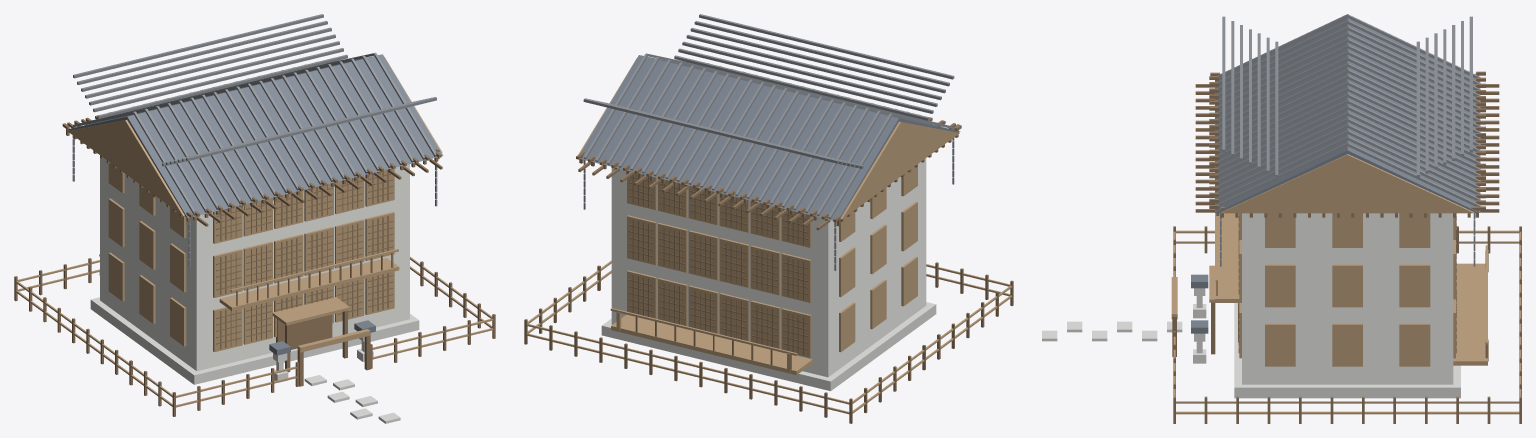
The model's file is office_c.glb.
3 views of the same model, side by side, from view 1: azimuth 30°, elevation 25°; view 2: azimuth 150°, elevation 25°; view 3: azimuth 270°, elevation 25° (orthographic). The views are drawn at different scales.
Visible parts, largest first — view 1: C_roof, C_core, C_plinth, C_gableW, C_bal_slab, C_entry, C_frame_S_1_0, C_mage_11_1, C_mage_13_1, C_mage_8_1, C_mage_9_1, C_mage_13_-1 (+51 smaller); view 2: C_roof, C_core, C_plinth, C_gableW, C_engawa, C_mage_13_1, C_mage_12_-1, C_mage_10_-1, C_mage_13_-1, C_mage_7_-1, C_mage_9_-1, C_mage_11_-1 (+52 smaller); view 3: C_core, C_roof, C_gableE, C_plinth, C_engawa, C_bal_slab, C_side_0_2E, C_side_1_2E, C_side_0_0E, C_side_0_1E, C_side_1_0E, C_side_1_1E (+60 smaller).
Part boxes in pixels (x1=…): C_roof: x1=68, y1=54, x2=443, y2=217; C_core: x1=100, y1=158, x2=409, y2=370; C_plinth: x1=90, y1=297, x2=419, y2=384; C_gableW: x1=67, y1=120, x2=184, y2=215; C_bal_slab: x1=219, y1=258, x2=399, y2=310; C_entry: x1=276, y1=314, x2=332, y2=349; C_frame_S_1_0: x1=213, y1=249, x2=242, y2=297; C_mage_11_1: x1=81, y1=27, x2=331, y2=91; C_mage_13_1: x1=73, y1=14, x2=323, y2=78; C_mage_8_1: x1=93, y1=48, x2=343, y2=112; C_mage_9_1: x1=89, y1=41, x2=339, y2=105; C_mage_13_-1: x1=186, y1=97, x2=436, y2=161; C_roof: x1=580, y1=55, x2=960, y2=221; C_core: x1=611, y1=158, x2=926, y2=377; C_plinth: x1=601, y1=302, x2=936, y2=391; C_gableW: x1=840, y1=121, x2=959, y2=219; C_engawa: x1=611, y1=314, x2=812, y2=375; C_mage_13_1: x1=583, y1=98, x2=838, y2=163; C_mage_12_-1: x1=694, y1=21, x2=949, y2=86; C_mage_10_-1: x1=686, y1=34, x2=941, y2=100; C_mage_13_-1: x1=699, y1=14, x2=954, y2=79; C_mage_7_-1: x1=674, y1=55, x2=929, y2=120; C_mage_9_-1: x1=682, y1=41, x2=937, y2=106; C_mage_11_-1: x1=690, y1=28, x2=945, y2=93; C_core: x1=1242, y1=213, x2=1453, y2=384; C_roof: x1=1215, y1=14, x2=1480, y2=212; C_gableE: x1=1220, y1=154, x2=1474, y2=213; C_plinth: x1=1234, y1=303, x2=1460, y2=398; C_engawa: x1=1453, y1=263, x2=1487, y2=365; C_bal_slab: x1=1215, y1=213, x2=1241, y2=302; C_side_0_2E: x1=1399, y1=323, x2=1430, y2=366; C_side_1_2E: x1=1399, y1=264, x2=1430, y2=307; C_side_0_0E: x1=1265, y1=323, x2=1295, y2=366; C_side_0_1E: x1=1332, y1=323, x2=1362, y2=366; C_side_1_0E: x1=1265, y1=264, x2=1295, y2=307; C_side_1_1E: x1=1332, y1=264, x2=1362, y2=307.
Size of what is drawn, in the model's own units: 21.14 by 14.88 by 24.97.
